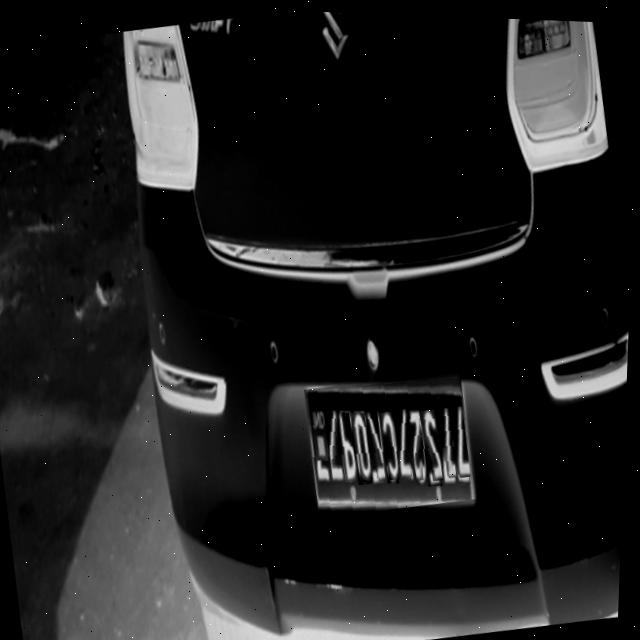0: (352, 409, 378, 480)
2: (422, 406, 449, 478), (409, 405, 434, 478)
7: (451, 402, 477, 475), (437, 404, 463, 475), (366, 407, 391, 479)
C: (381, 408, 405, 478)
IND: (312, 404, 335, 459)
Indian_registered: (311, 387, 477, 501)
L: (394, 405, 421, 479)
M: (326, 407, 350, 481)
P: (338, 408, 363, 479)
